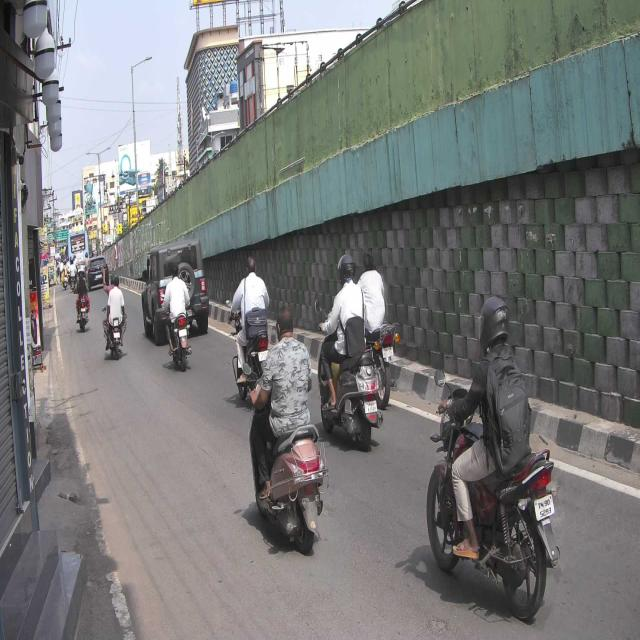single_rider: (427, 295, 560, 622), (249, 304, 329, 558)
